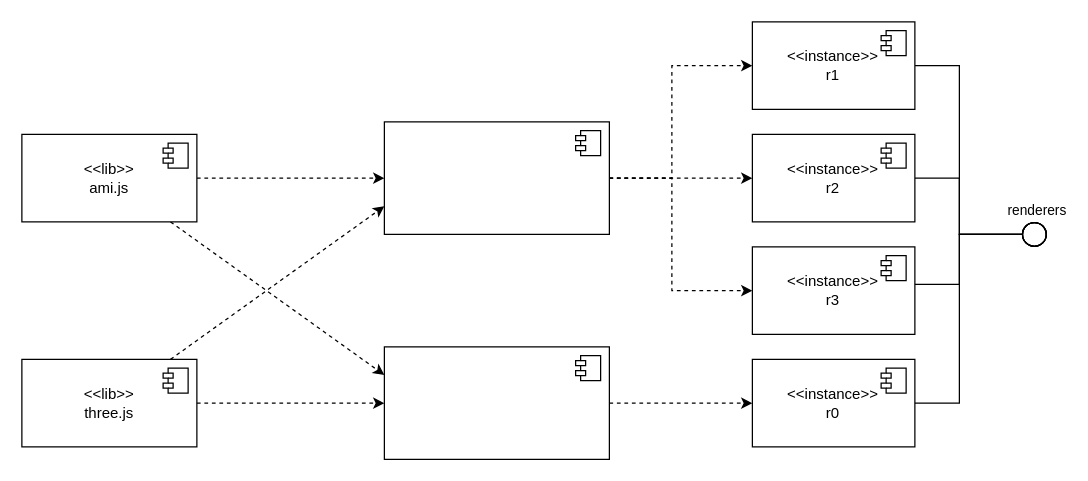
Some shapes in this 1088 by 481 pixel diagram are drawn without their labels. Here are the shapes that lost their labels. From the top down, the centre of each, then its label:
At (496,177): "<<class>> Renderer2D".
At (496,402): "<<class>> Renderer3D".
